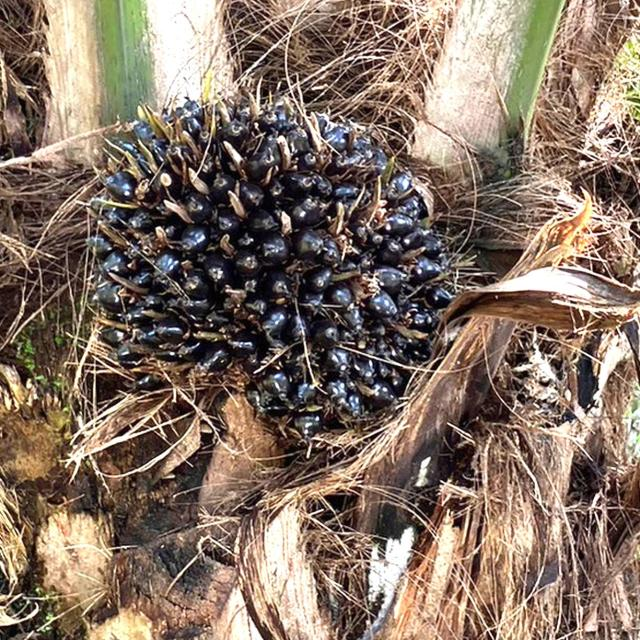unripe: (68, 59, 465, 472)
